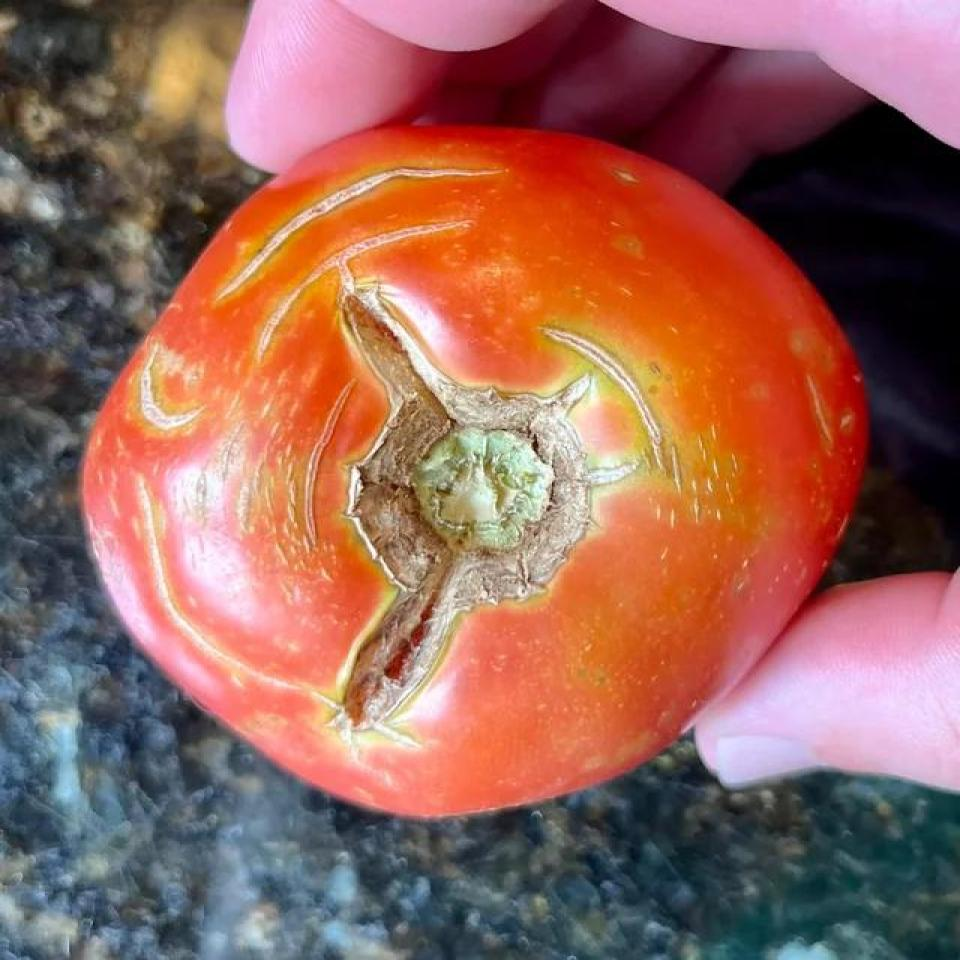Blossom_end_rot: (255, 250, 612, 745)
Cracking: (113, 457, 327, 743), (176, 152, 530, 312), (488, 318, 725, 527), (245, 248, 482, 456)
